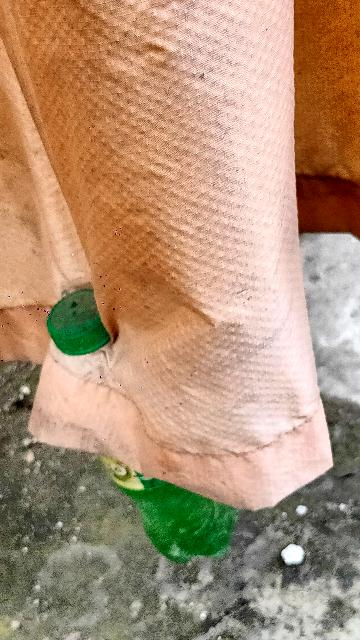bottle: (37, 276, 263, 574)
